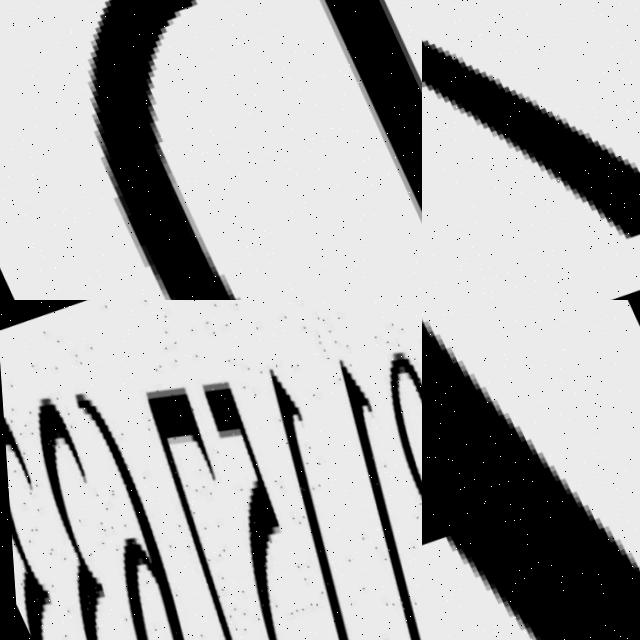1: (180, 341, 422, 640), (248, 326, 422, 640)
3: (0, 369, 228, 640), (0, 383, 176, 640)
5: (113, 326, 413, 640)
6: (0, 353, 286, 640)
7: (66, 356, 356, 640), (422, 0, 640, 300)
8: (298, 323, 422, 640)
D: (5, 0, 422, 300)
F: (422, 300, 640, 640)
